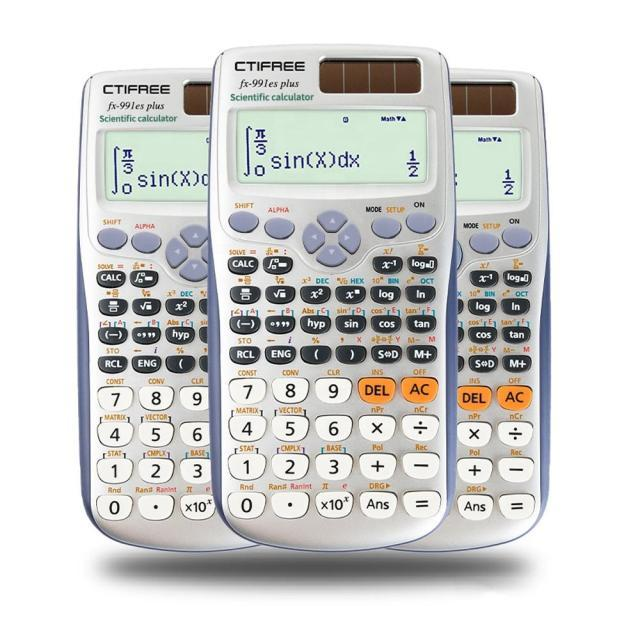Calculator: (214, 53, 461, 562), (74, 64, 206, 560), (450, 72, 544, 557)
